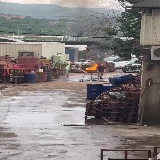fire: (84, 63, 98, 70)
